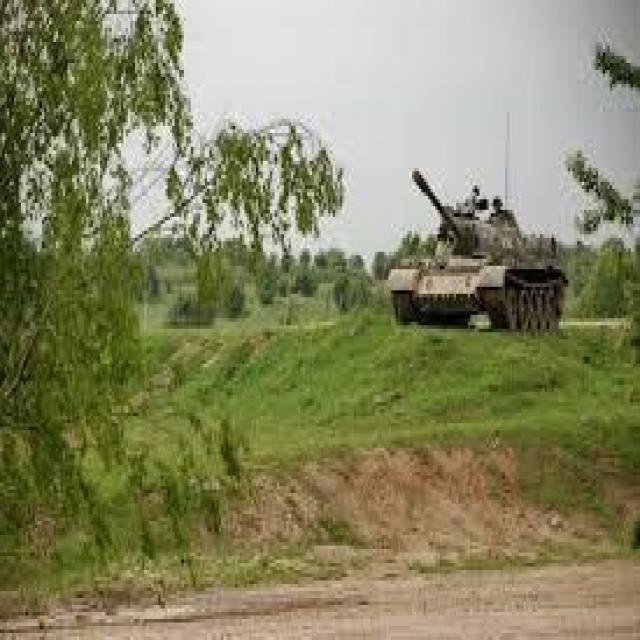Tanks: (385, 161, 574, 346)
